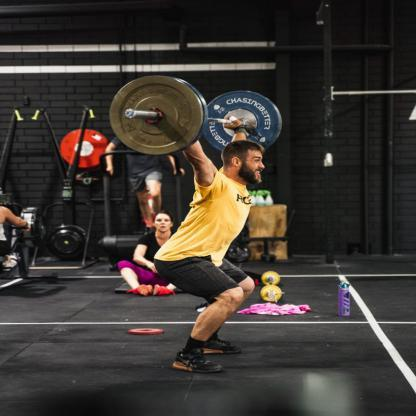Barbell: (122, 107, 139, 120)
